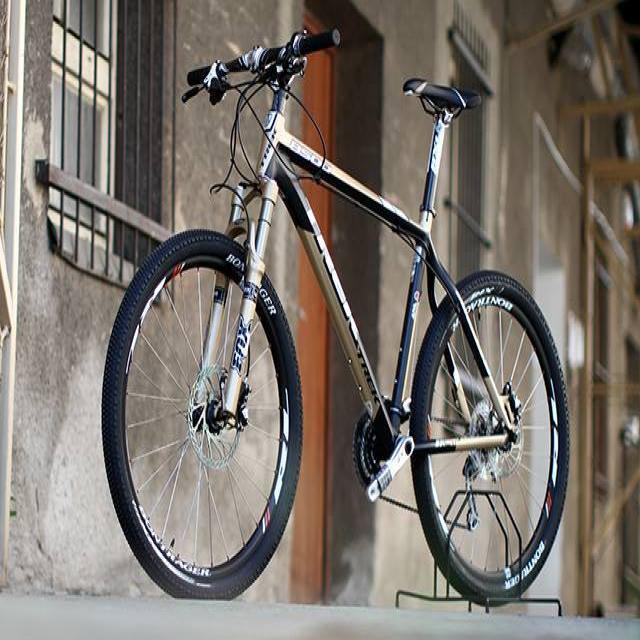Bicycle: (81, 25, 608, 612)
